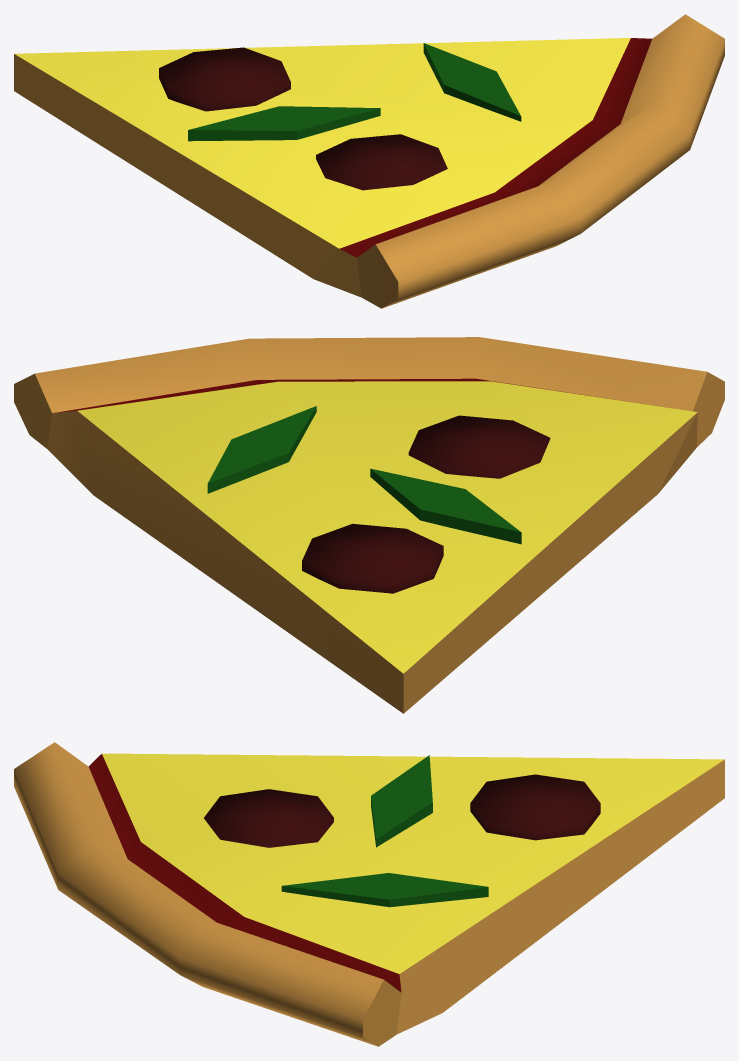
Rendered from Slice003.FBX.
3 renders of one model, top to bottom at view 1: azimuth 30°, elevation 25°; view 2: azimuth 150°, elevation 25°; view 3: azimuth 270°, elevation 25°, orthographic. The views are drawn at different scales.
Visible parts, largest first — view 1: Slice003; view 2: Slice003; view 3: Slice003.
Part boxes in pixels (x1,y1,x2,y2): Slice003: (14,14,724,308); Slice003: (14,337,724,713); Slice003: (14,742,724,1046).
Bounding box in the file's own units: 6.55 × 0.8516 × 7.22.
